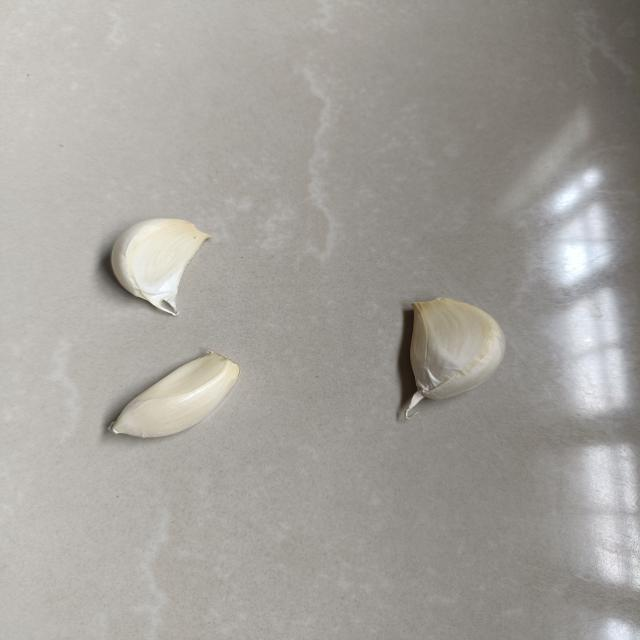garlic: (395, 293, 511, 423), (96, 351, 252, 438), (103, 213, 223, 317)
